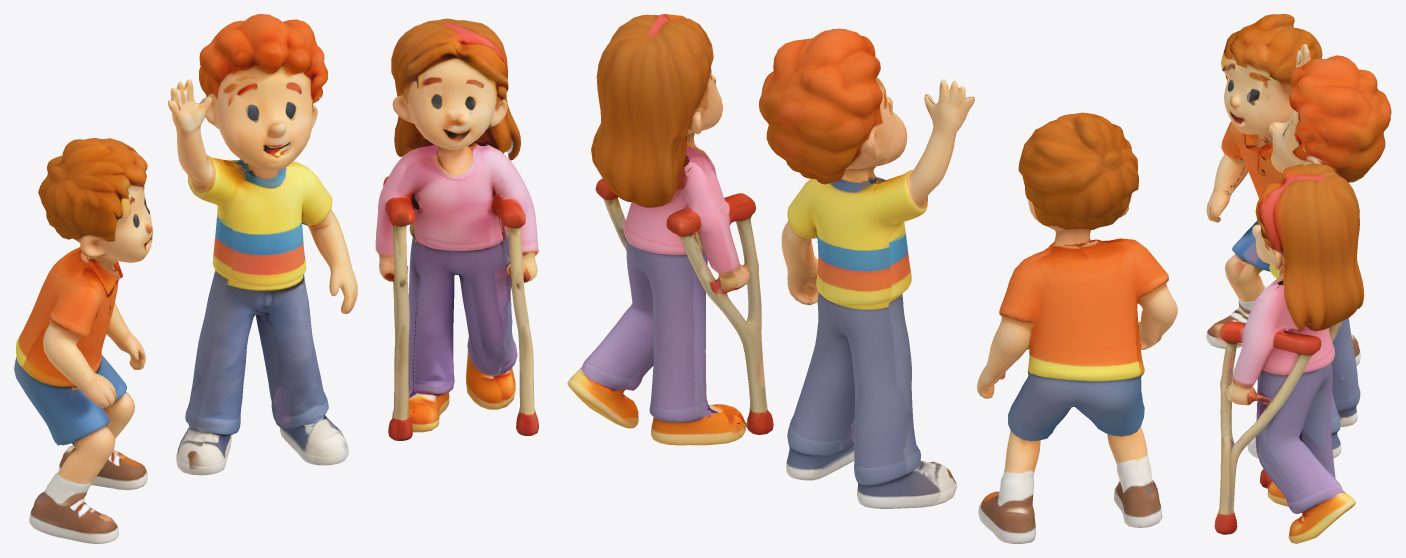
The model's file is NiñosEscuela.glb.
The picture shows the model from 3 angles, left to right: view 1: azimuth 30°, elevation 25°; view 2: azimuth 150°, elevation 25°; view 3: azimuth 270°, elevation 25°; orthographic projection. The views are drawn at different scales.
Parts seen in each view (by area): view 1: model; view 2: model; view 3: model.
Part boxes in pixels (x1,y1,x2,y2): model: (14, 14, 538, 543); model: (567, 14, 1177, 543); model: (1206, 14, 1391, 543).
Size of the model in its own units: 1.89 by 1.51 by 0.6557.
Materials: 1 (1 with a texture image).
